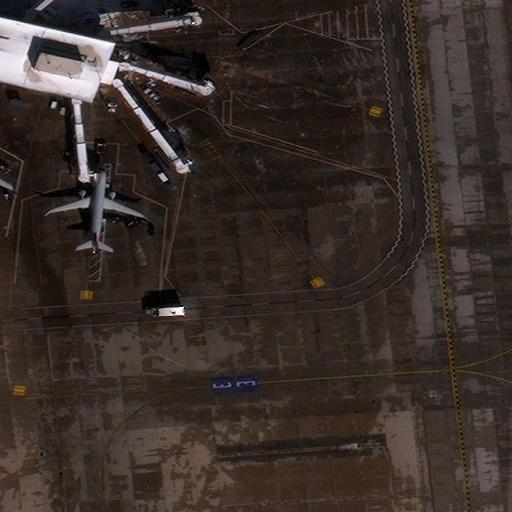Medium Civil Transport: (51, 171, 144, 248)
